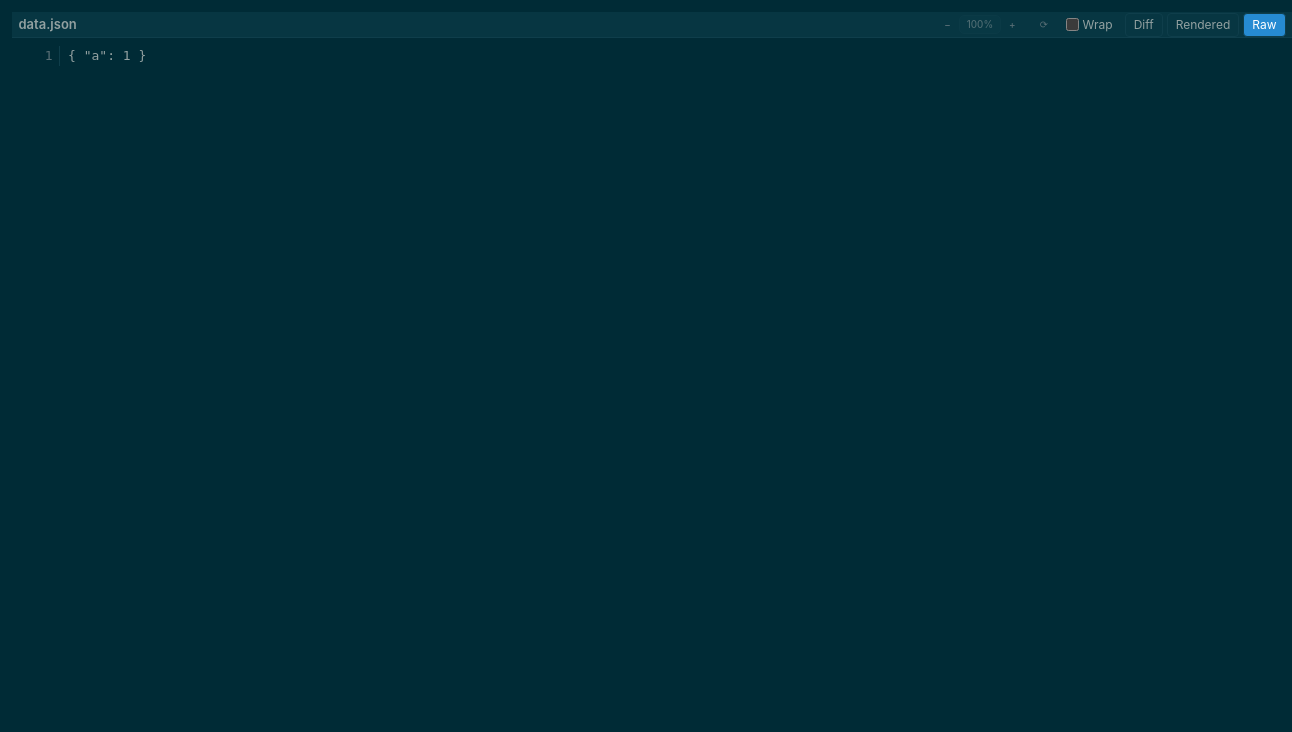
Test: ContentViewer › structural-fold size degrade (structuredFoldMaxMb — local_repo_explorer-jp2f.4) › at the default threshold (10 MB), a small .json file still renders through folding-view in Rendered mode
Click the tab "Rendered": (1203, 24) top-left (1167, 12), bottom-right (1239, 36)
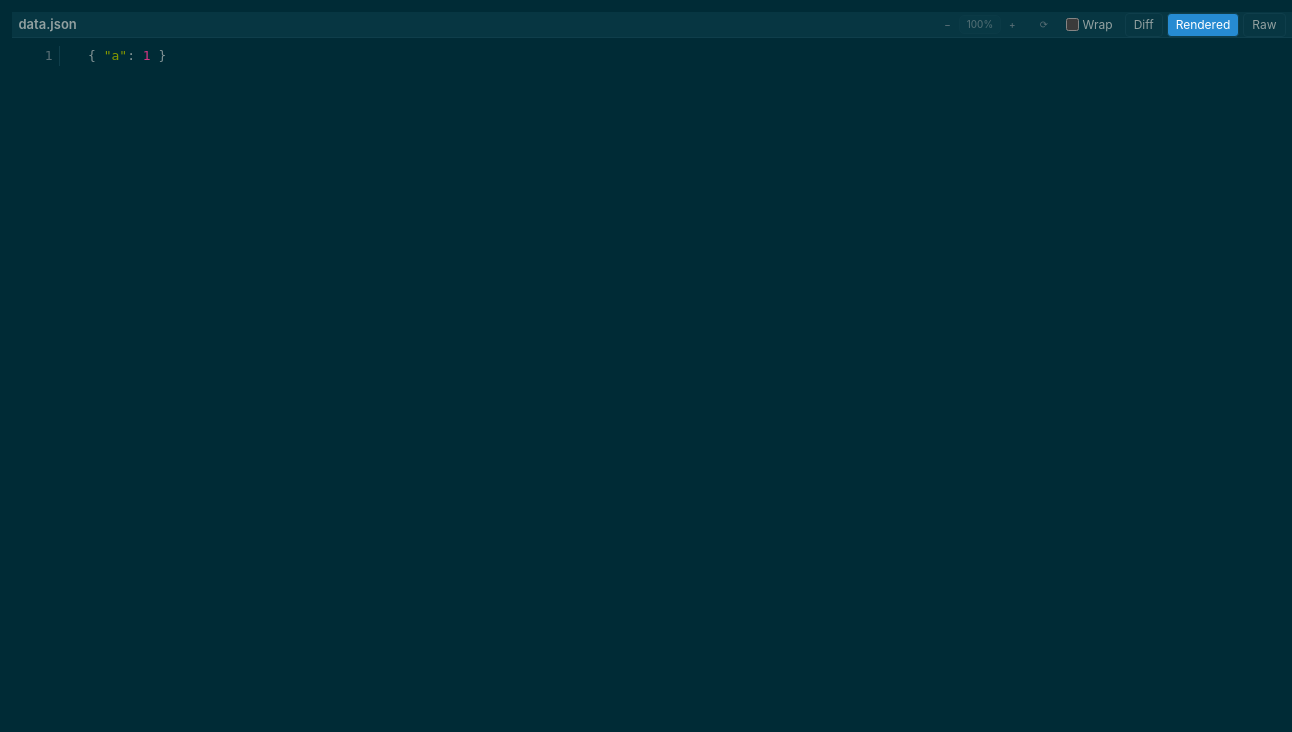
Now the element with test id "folding-view" is shown
